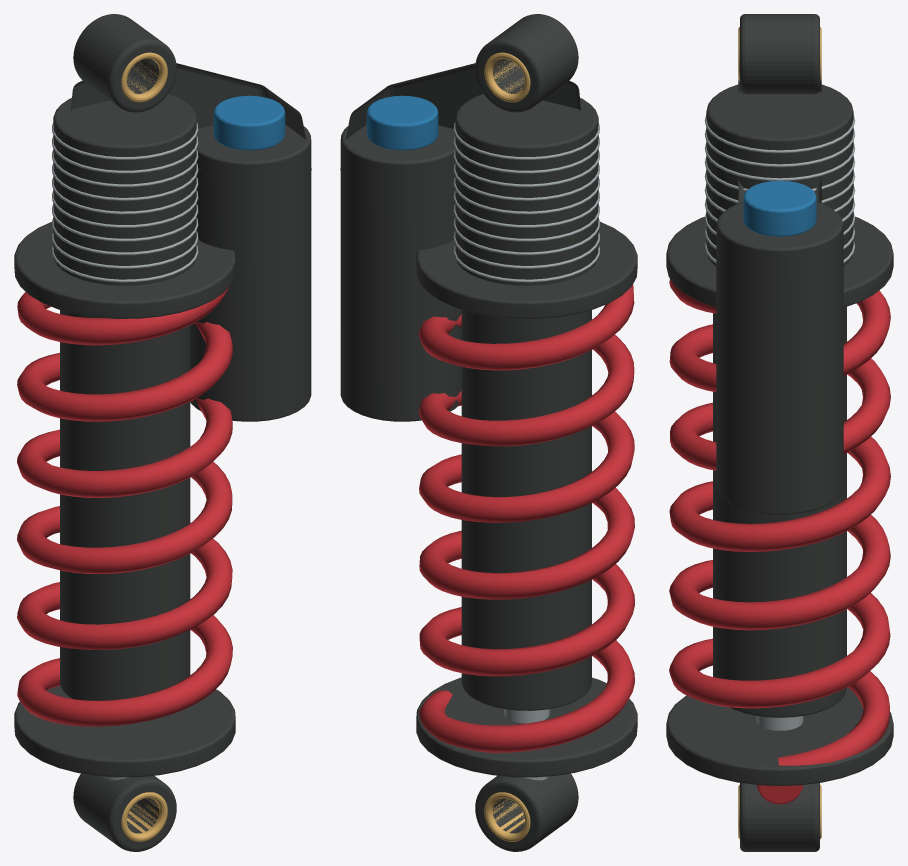
The model's file is rockshox-vivid-coil-ultimate-d1--cddd9dda.glb.
3 views of the same model, side by side, from view 1: azimuth 30°, elevation 25°; view 2: azimuth 150°, elevation 25°; view 3: azimuth 270°, elevation 25° (orthographic). The views are drawn at different scales.
Parts seen in each view (by area): view 1: rockshox-vivid-coil-ultimate-d1--cddd9dda__link, rockshox-vivid-coil-ultimate-d1--cddd9dda__rebound, rockshox-vivid-coil-ultimate-d1--cddd9dda__bolts, rockshox-vivid-coil-ultimate-d1--cddd9dda__adjuster, rockshox-vivid-coil-ultimate-d1--cddd9dda__stanchions; view 2: rockshox-vivid-coil-ultimate-d1--cddd9dda__link, rockshox-vivid-coil-ultimate-d1--cddd9dda__rebound, rockshox-vivid-coil-ultimate-d1--cddd9dda__bolts, rockshox-vivid-coil-ultimate-d1--cddd9dda__adjuster, rockshox-vivid-coil-ultimate-d1--cddd9dda__stanchions; view 3: rockshox-vivid-coil-ultimate-d1--cddd9dda__link, rockshox-vivid-coil-ultimate-d1--cddd9dda__rebound, rockshox-vivid-coil-ultimate-d1--cddd9dda__bolts, rockshox-vivid-coil-ultimate-d1--cddd9dda__adjuster.
Boxes of the visible parts, x1=… form: rockshox-vivid-coil-ultimate-d1--cddd9dda__link: x1=14, y1=14, x2=311, y2=851; rockshox-vivid-coil-ultimate-d1--cddd9dda__rebound: x1=17, y1=286, x2=232, y2=726; rockshox-vivid-coil-ultimate-d1--cddd9dda__bolts: x1=52, y1=122, x2=198, y2=780; rockshox-vivid-coil-ultimate-d1--cddd9dda__adjuster: x1=213, y1=95, x2=285, y2=150; rockshox-vivid-coil-ultimate-d1--cddd9dda__stanchions: x1=121, y1=52, x2=167, y2=841; rockshox-vivid-coil-ultimate-d1--cddd9dda__link: x1=340, y1=14, x2=637, y2=851; rockshox-vivid-coil-ultimate-d1--cddd9dda__rebound: x1=418, y1=284, x2=634, y2=752; rockshox-vivid-coil-ultimate-d1--cddd9dda__bolts: x1=453, y1=122, x2=599, y2=780; rockshox-vivid-coil-ultimate-d1--cddd9dda__adjuster: x1=366, y1=95, x2=438, y2=150; rockshox-vivid-coil-ultimate-d1--cddd9dda__stanchions: x1=484, y1=52, x2=530, y2=841; rockshox-vivid-coil-ultimate-d1--cddd9dda__link: x1=666, y1=14, x2=893, y2=851; rockshox-vivid-coil-ultimate-d1--cddd9dda__rebound: x1=669, y1=279, x2=890, y2=804; rockshox-vivid-coil-ultimate-d1--cddd9dda__bolts: x1=704, y1=115, x2=855, y2=730; rockshox-vivid-coil-ultimate-d1--cddd9dda__adjuster: x1=743, y1=180, x2=816, y2=236.
Bounding box in the file's own units: 0.097 × 0.274 × 0.068.
